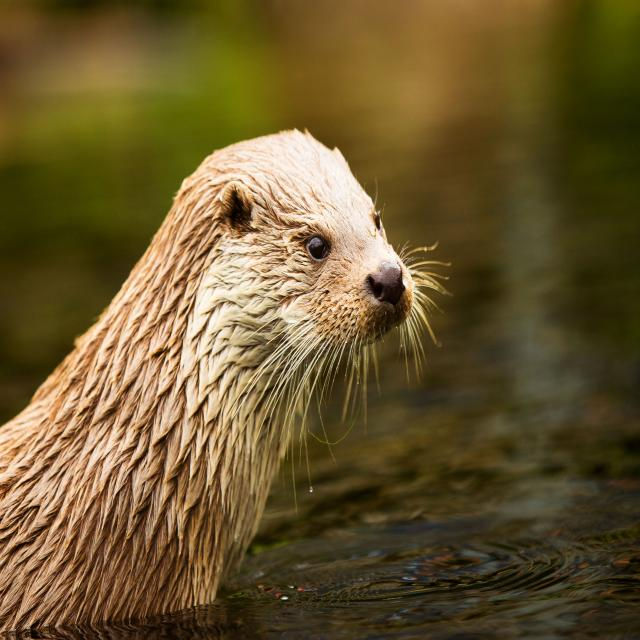otter: (1, 131, 416, 636)
